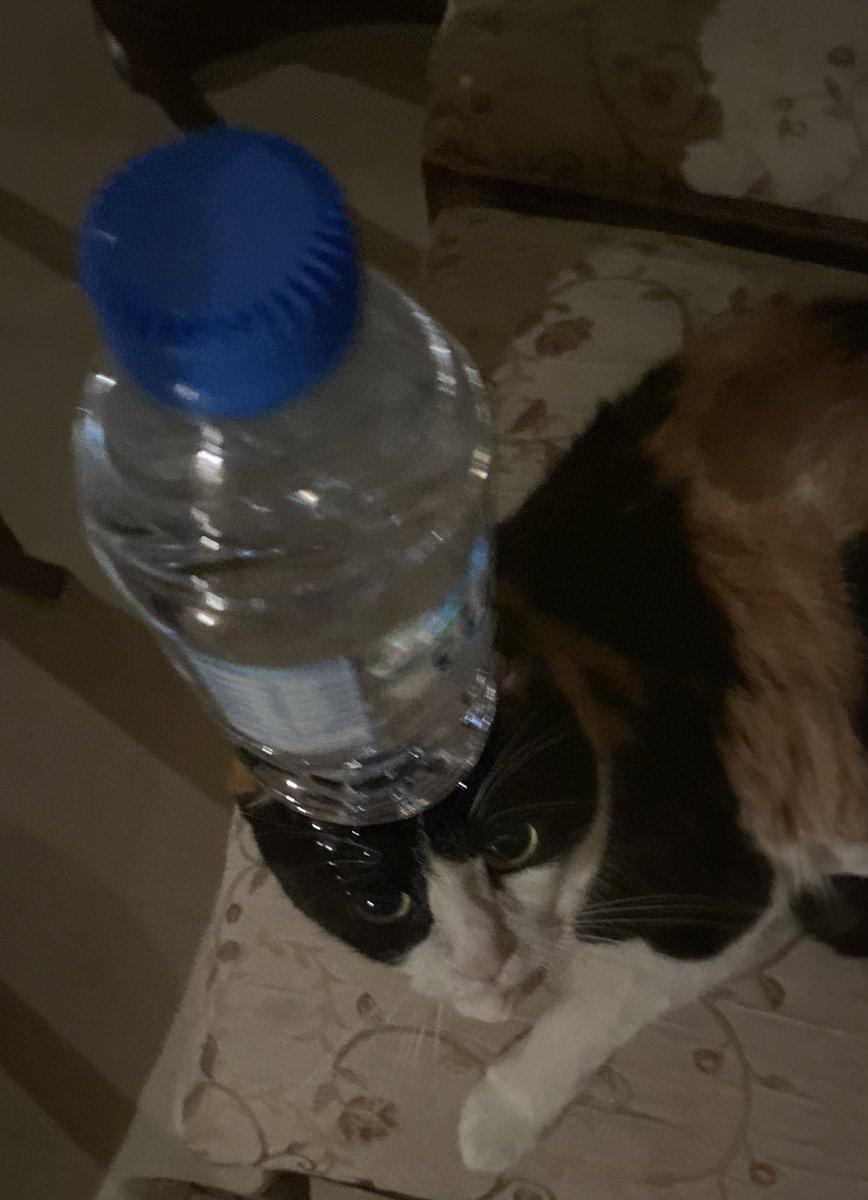plastic_bottle: (58, 121, 513, 812)
